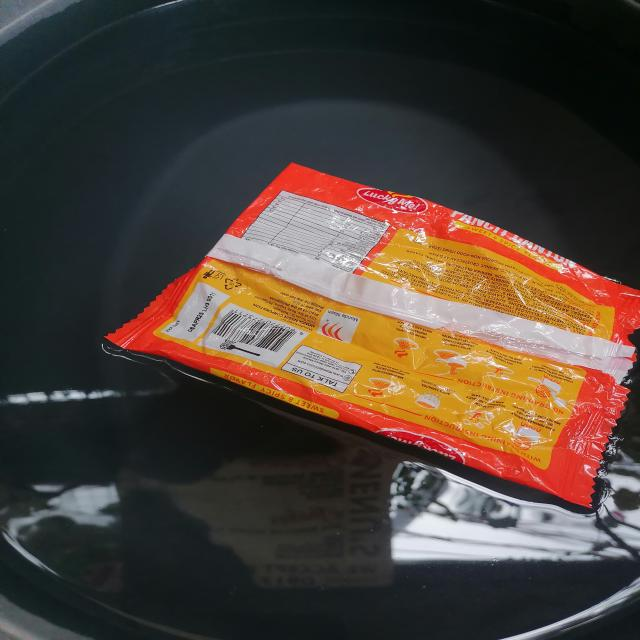Plastic Wrapper: (107, 164, 640, 509)
